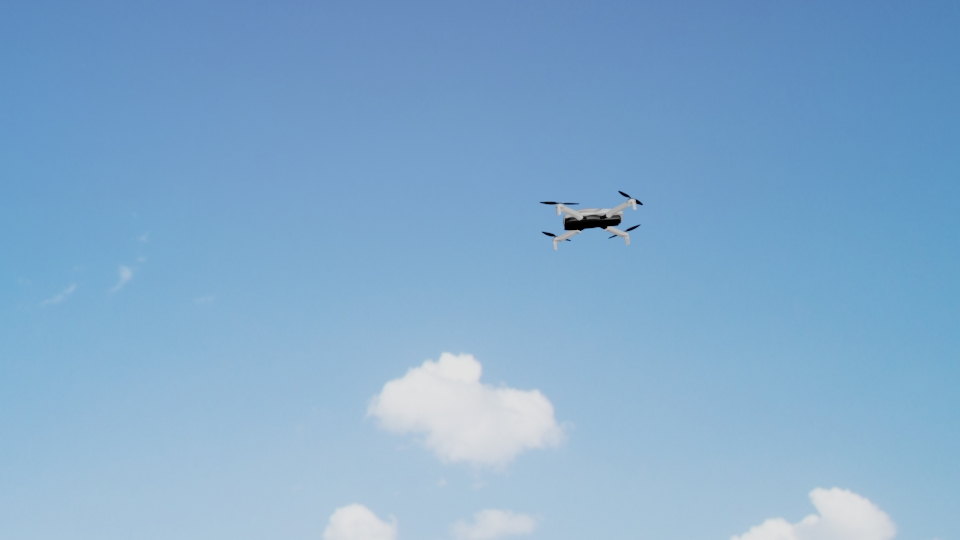drone: (541, 188, 641, 252)
